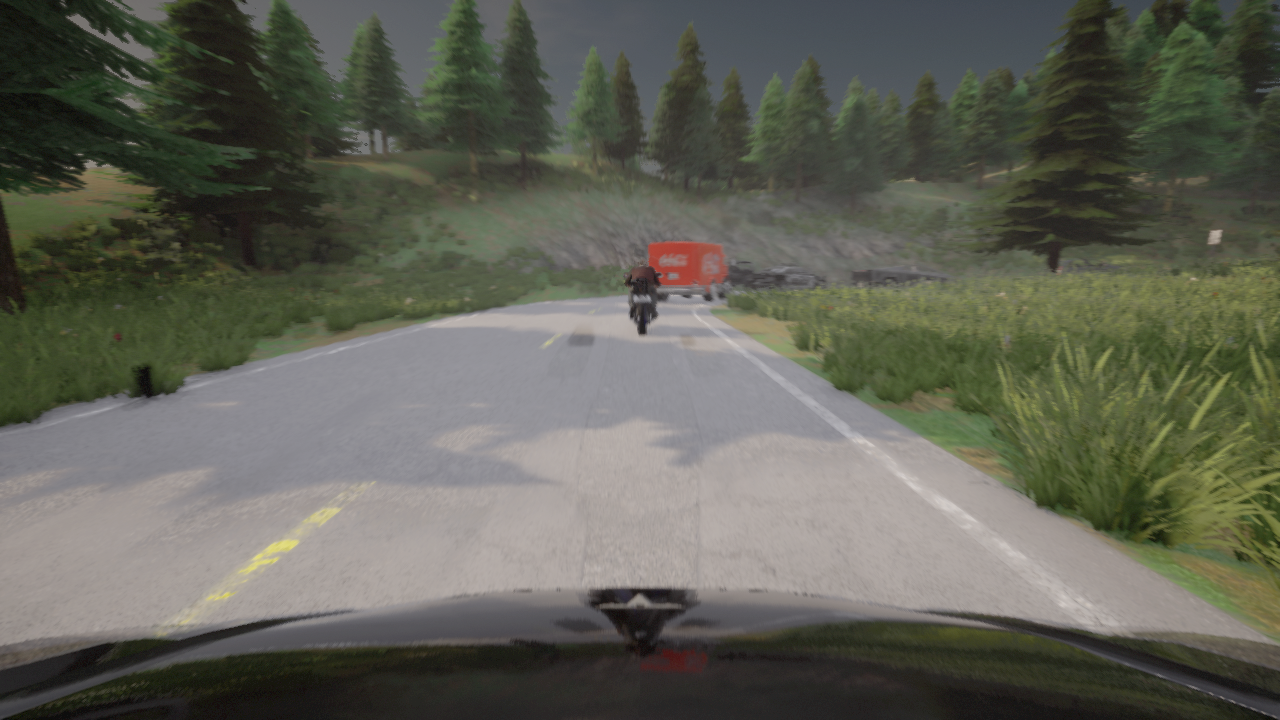cyclist: (0, 588, 1279, 719), (648, 242, 734, 302), (850, 264, 954, 289), (624, 274, 661, 335), (750, 267, 825, 288), (1043, 258, 1122, 275)
